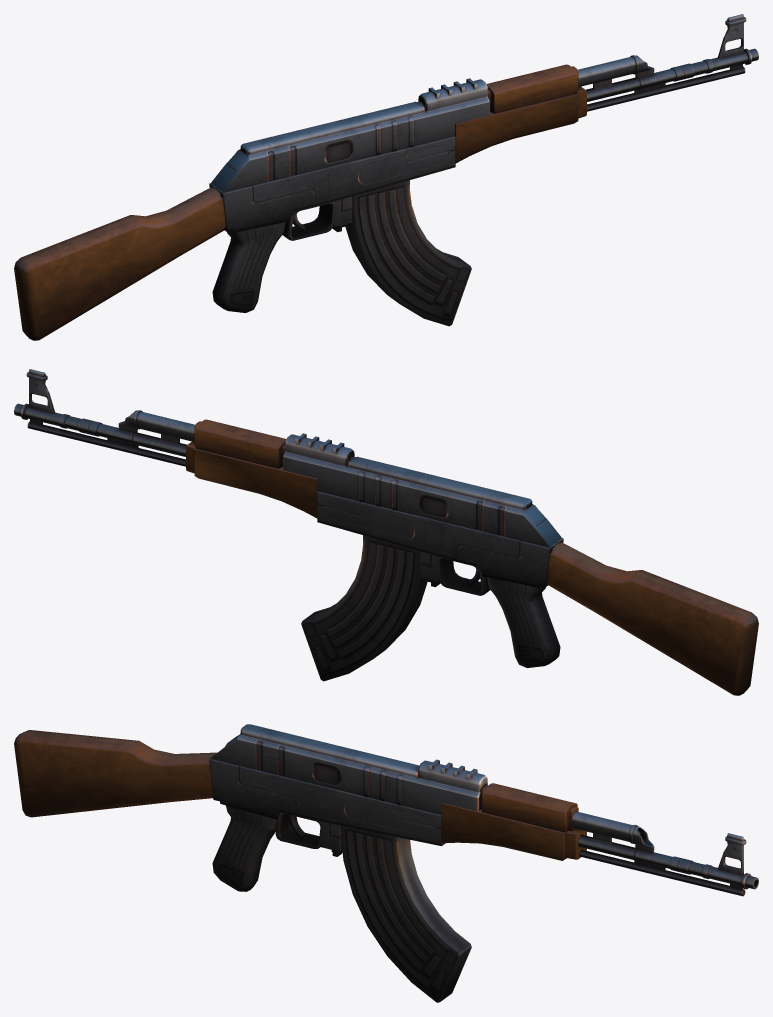
The picture shows the model from 3 angles, top to bottom: view 1: azimuth 30°, elevation 25°; view 2: azimuth 150°, elevation 25°; view 3: azimuth 330°, elevation 25°; orthographic projection.
Visible parts, largest first — view 1: ak47, akderriere_low, akmagazine_low; view 2: ak47, akderriere_low, akmagazine_low; view 3: ak47, akderriere_low, akmagazine_low.
Boxes of the visible parts, x1,y1,x2,y2 form: ak47: (209, 14, 758, 312); akderriere_low: (14, 187, 226, 340); akmagazine_low: (345, 180, 471, 326); ak47: (14, 369, 563, 667); akderriere_low: (546, 542, 758, 695); akmagazine_low: (301, 535, 427, 681); ak47: (209, 724, 758, 896); akderriere_low: (14, 730, 216, 817); akmagazine_low: (340, 825, 471, 1002).
Bounding box in the file's own units: 0.743 × 0.2256 × 0.0253.
Materials: 1 (1 with a texture image).
